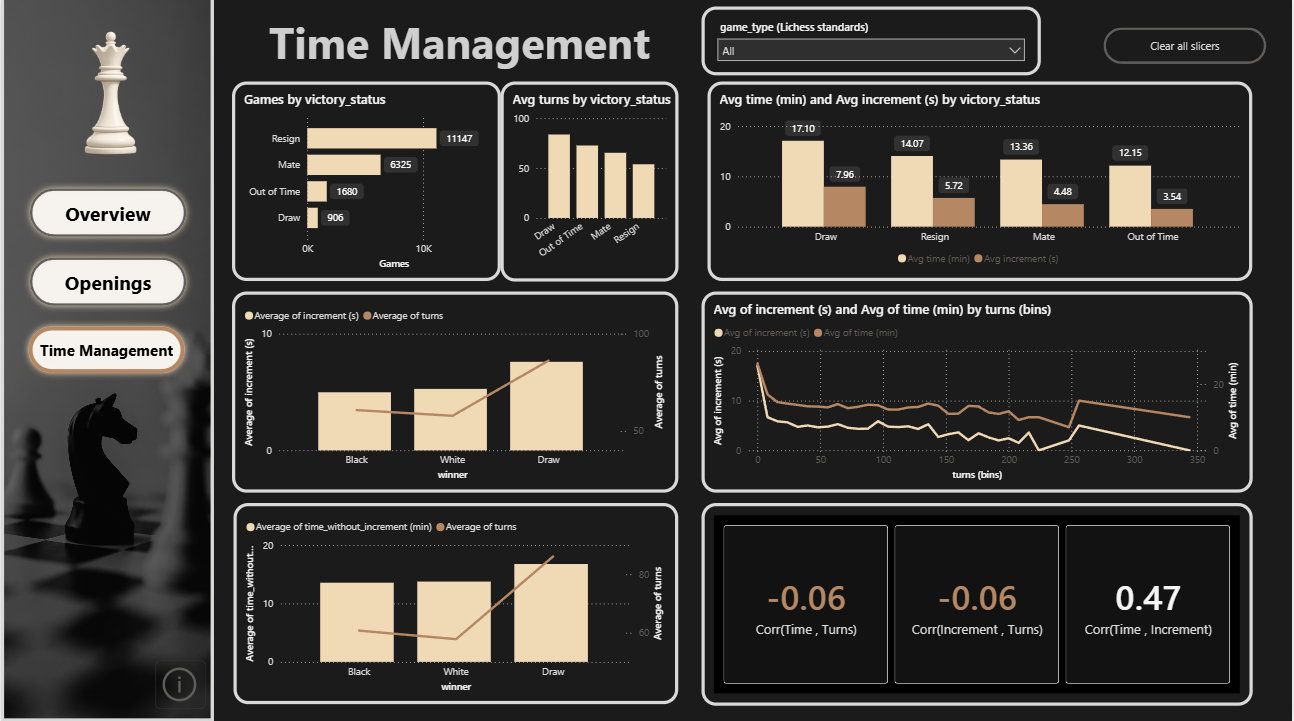

Layout of this report page (visuals, bound fields, positions):
{"tool":"powerbi","page":{"name":"Time management","canvas":[1600,900],"ordinal":2},"visuals":[{"type":"clusteredBarChart","fields":{"Category":["chess_games.victory_status"],"Y":["Count(chess_games.game_id)"]},"box":[285.6,105.8,333.5,247.6],"z":0},{"type":"clusteredColumnChart","title":"Avg turns by victory_status","fields":{"Category":["chess_games.victory_status"],"Y":["Avg(chess_games.turns)"]},"box":[619.6,105.7,220.5,247.8],"z":1000},{"type":"slicer","fields":{"Values":["chess_games.game_type (Lichess standards)"]},"box":[869.2,12.8,421,85.6],"z":2000},{"type":"lineClusteredColumnComboChart","fields":{"Category":["chess_games.winner"],"Y":["Avg(chess_games.increment (s))"],"Y2":["Avg(chess_games.turns)"]},"box":[285.6,365.5,553.2,249.6],"z":3000},{"type":"lineChart","fields":{"Y":["Avg(chess_games.increment (s))"],"Y2":["Avg(chess_games.time_without_increment (min))"],"Category":["chess_games.turns (bins)"]},"box":[868.7,365.5,683,249.6],"z":4000},{"type":"lineClusteredColumnComboChart","fields":{"Category":["chess_games.winner"],"Y2":["Avg(chess_games.turns)"],"Y":["Avg(chess_games.time_without_increment (min))"]},"box":[287.6,629.1,551.2,249.6],"z":5000},{"type":"actionButton","box":[47.2,824,57.9,51.5],"z":6000},{"type":"actionButton","box":[1366.8,38.6,201.7,45.1],"z":7000},{"type":"shape","box":[0,0,263.9,901.2],"z":8000},{"type":"image","box":[0,0,263.9,899.1],"z":9000},{"type":"actionButton","box":[28,229.7,209.7,75.9],"z":10000},{"type":"actionButton","box":[26,401.4,209.7,73.9],"z":11000},{"type":"actionButton","box":[28,315.5,209.7,75.9],"z":12000},{"type":"actionButton","box":[189.7,822.8,61.9,59.9],"z":13000},{"type":"textbox","box":[328,14.6,716.2,83.8],"z":14000},{"type":"cardVisual","fields":{"Data":["chess_games.Corr Time_Turns","chess_games.Corr Increment_Turns","chess_games.Corr Time_Increment"]},"box":[868.7,629.1,683,251.6],"z":15000},{"type":"clusteredColumnChart","fields":{"Category":["chess_games.victory_status"],"Y":["Avg(chess_games.time_without_increment (min))","Avg(chess_games.increment (s))"]},"box":[876.7,105.8,675,247.6],"z":16000},{"type":"image","box":[47.9,37.9,175.7,165.8],"z":17000}]}

Visuals, with their boxes in screenshot pixels (x1, y1, x2, y2), scaled from the page's 1600x900 canvas onto the 1294x721 screenshot:
clusteredBarChart - chess_games.victory_status x Count(chess_games.game_id): {"left": 231, "top": 85, "right": 501, "bottom": 283}
"Avg turns by victory_status" clusteredColumnChart: {"left": 501, "top": 85, "right": 679, "bottom": 283}
slicer - chess_games.game_type (Lichess standards): {"left": 703, "top": 10, "right": 1043, "bottom": 79}
lineClusteredColumnComboChart - chess_games.winner x Avg(chess_games.increment (s)): {"left": 231, "top": 293, "right": 678, "bottom": 493}
lineChart - Avg(chess_games.increment (s)) x Avg(chess_games.time_without_increment (min)): {"left": 703, "top": 293, "right": 1255, "bottom": 493}
lineClusteredColumnComboChart - chess_games.winner x Avg(chess_games.turns): {"left": 233, "top": 504, "right": 678, "bottom": 704}
actionButton: {"left": 38, "top": 660, "right": 85, "bottom": 701}
actionButton: {"left": 1105, "top": 31, "right": 1269, "bottom": 67}
shape: {"left": 0, "top": 0, "right": 213, "bottom": 720}
image: {"left": 0, "top": 0, "right": 213, "bottom": 720}
actionButton: {"left": 23, "top": 184, "right": 192, "bottom": 245}
actionButton: {"left": 21, "top": 322, "right": 191, "bottom": 381}
actionButton: {"left": 23, "top": 253, "right": 192, "bottom": 314}
actionButton: {"left": 153, "top": 659, "right": 203, "bottom": 707}
textbox: {"left": 265, "top": 12, "right": 844, "bottom": 79}
cardVisual - chess_games.Corr Time_Turns x chess_games.Corr Increment_Turns: {"left": 703, "top": 504, "right": 1255, "bottom": 706}
clusteredColumnChart - chess_games.victory_status x Avg(chess_games.time_without_increment (min)): {"left": 709, "top": 85, "right": 1255, "bottom": 283}
image: {"left": 39, "top": 30, "right": 181, "bottom": 163}
